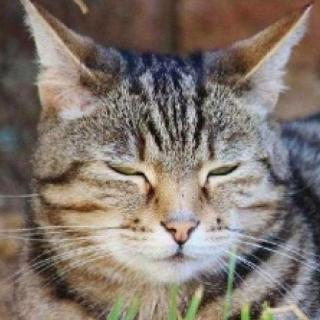cat: (18, 0, 316, 300)
nose: (161, 210, 206, 251)
